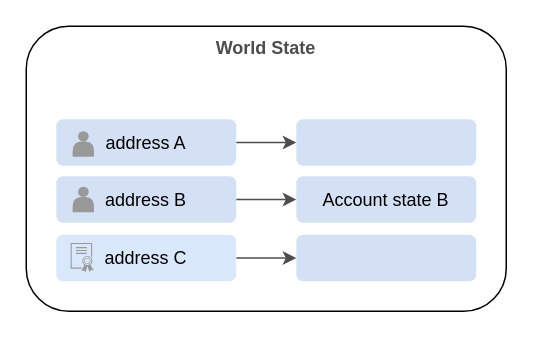
The diagram is 533 pixels wide and 338 high, and some of its shapes have lost their labels. The centre of each missing label's shape, as x and y in pixels:
"Account state A" belongs at pixel 386 141.
"Account state C" belongs at pixel 386 257.
